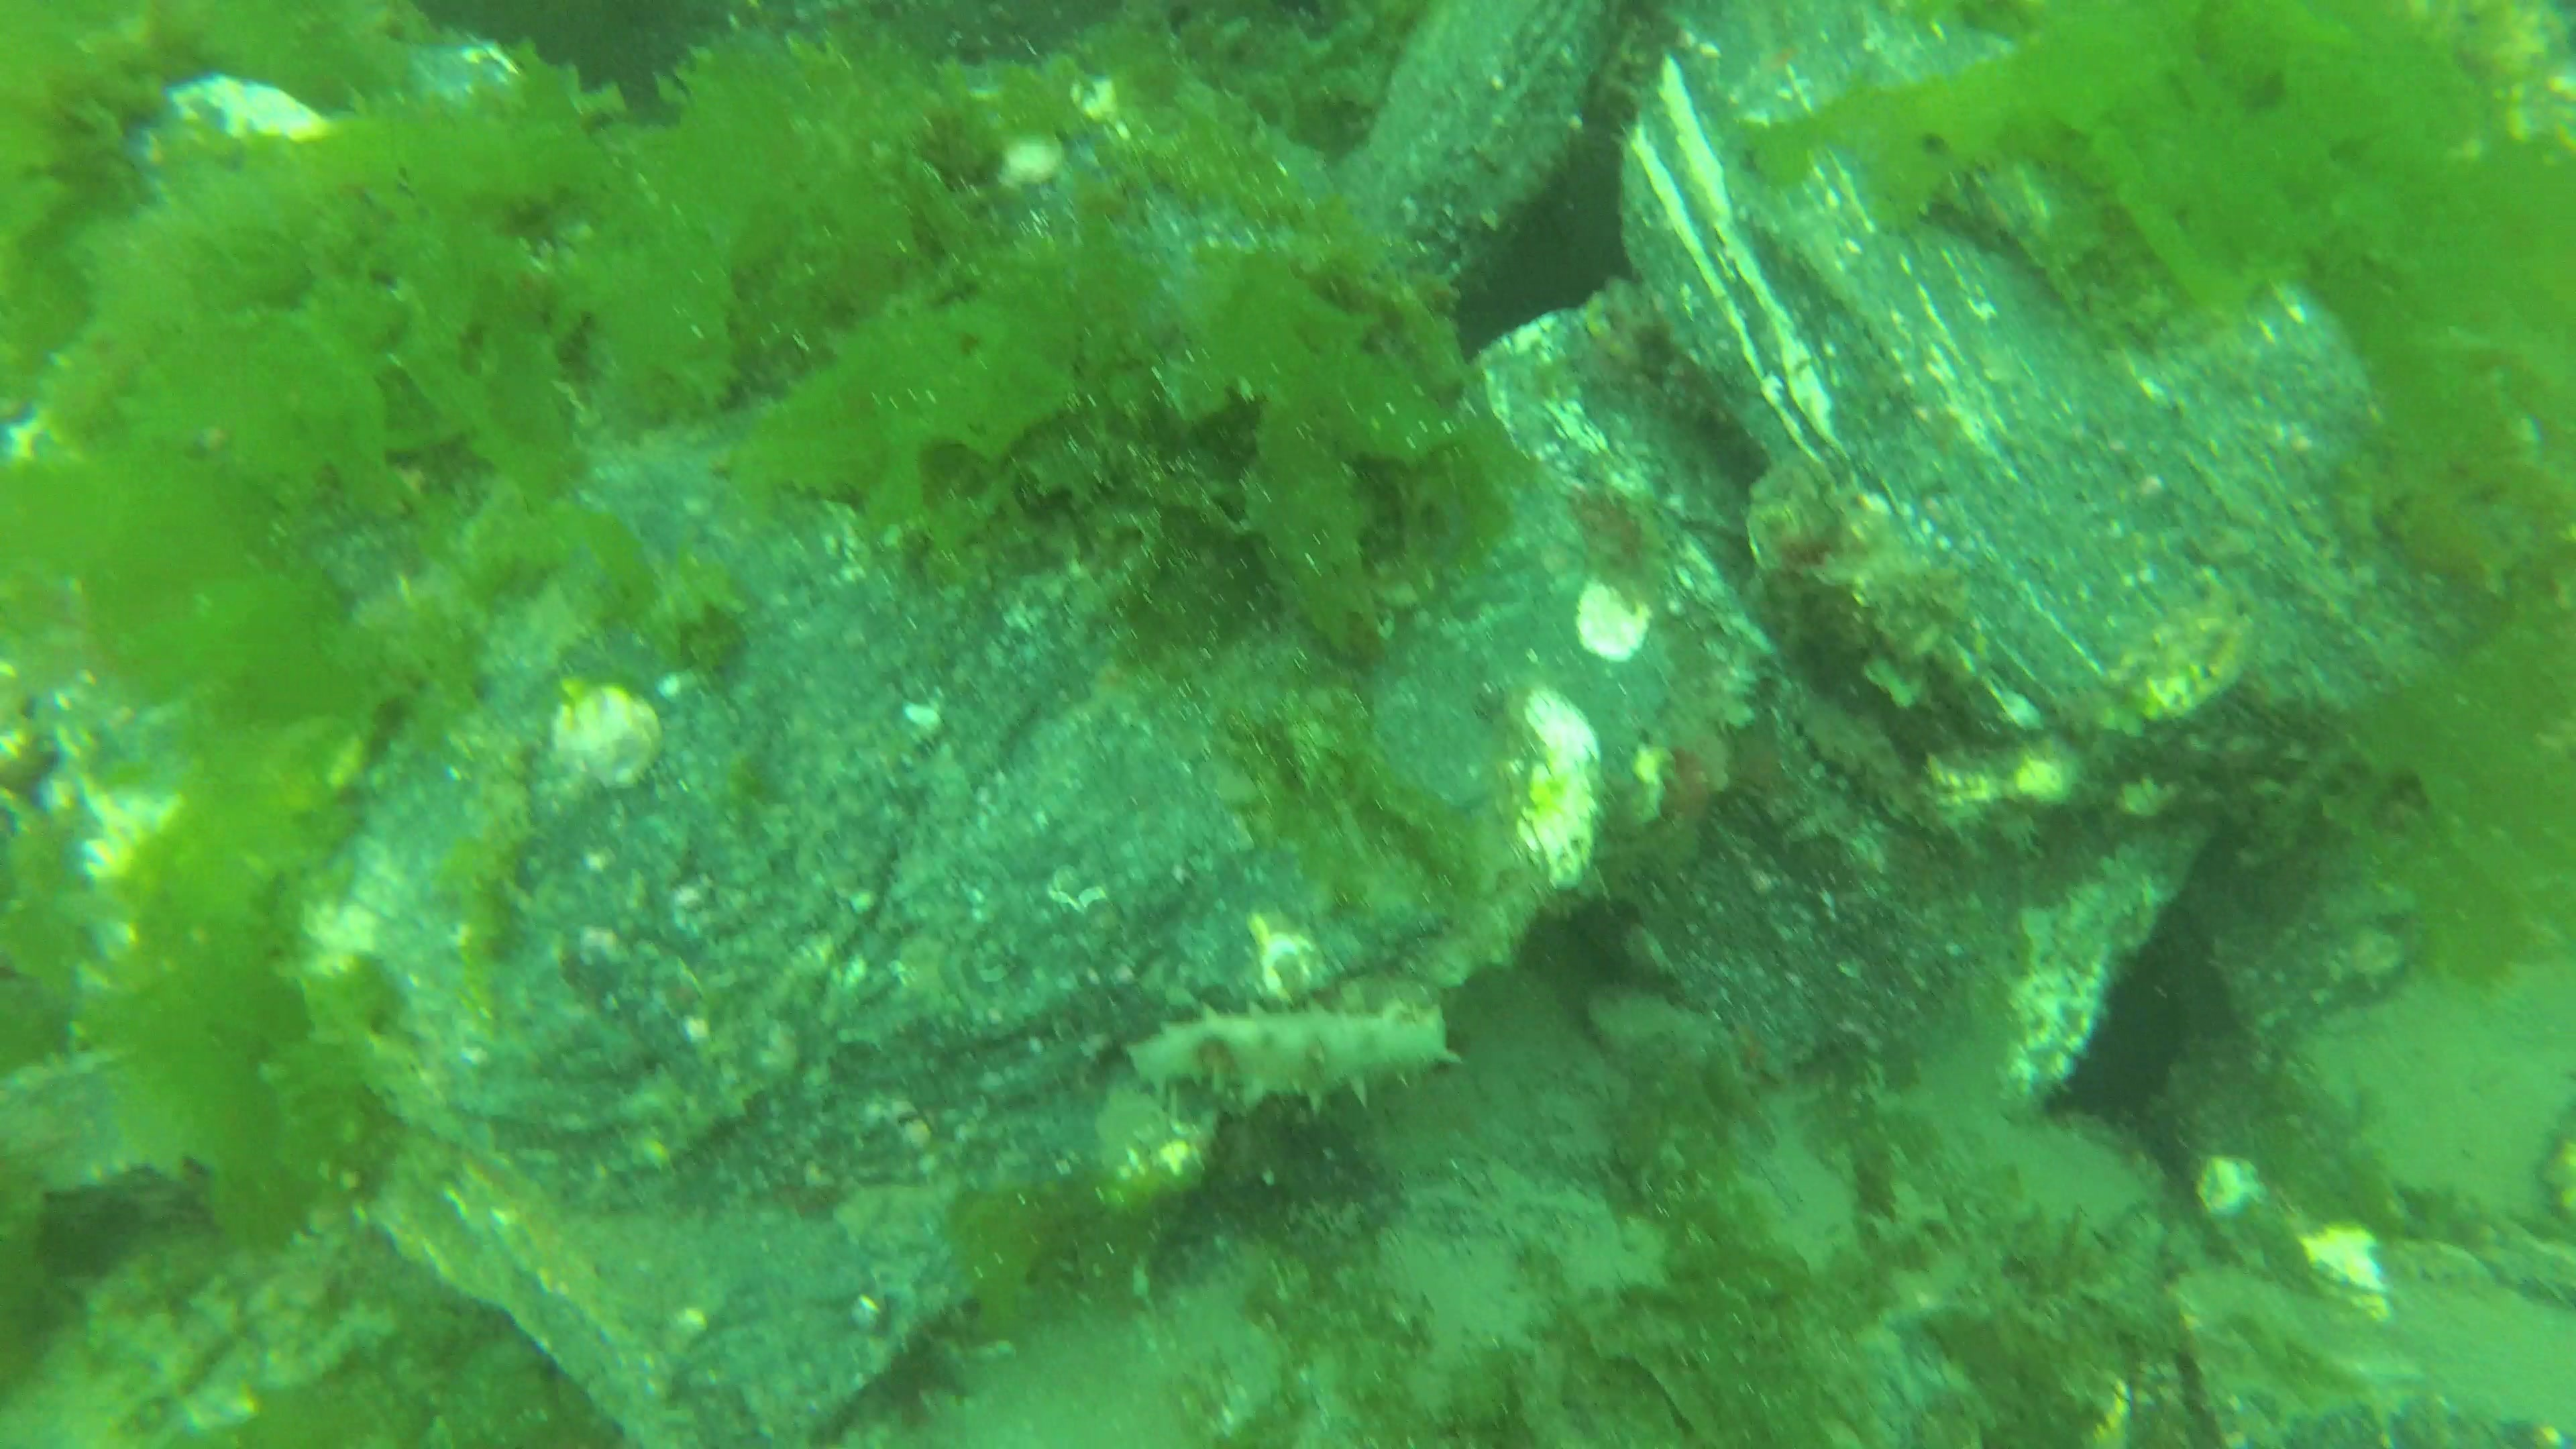holothurian: (1116, 994, 1465, 1118)
